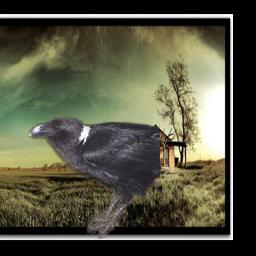Crow: (28, 116, 159, 239)
